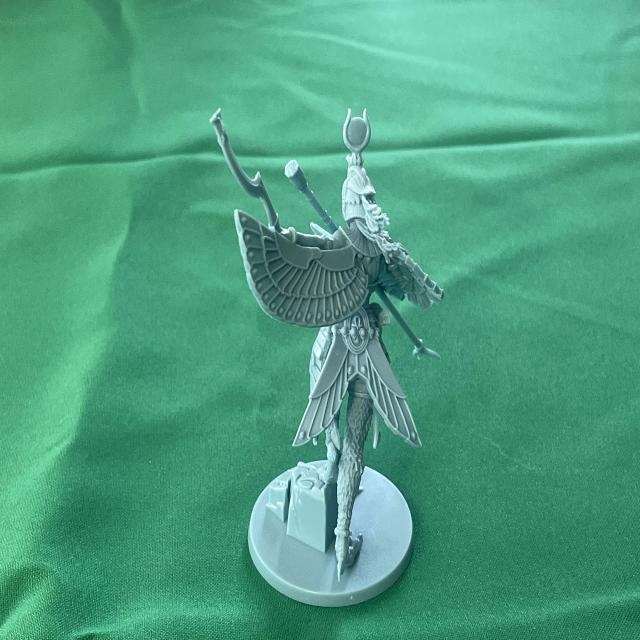isis: (208, 94, 450, 624)
